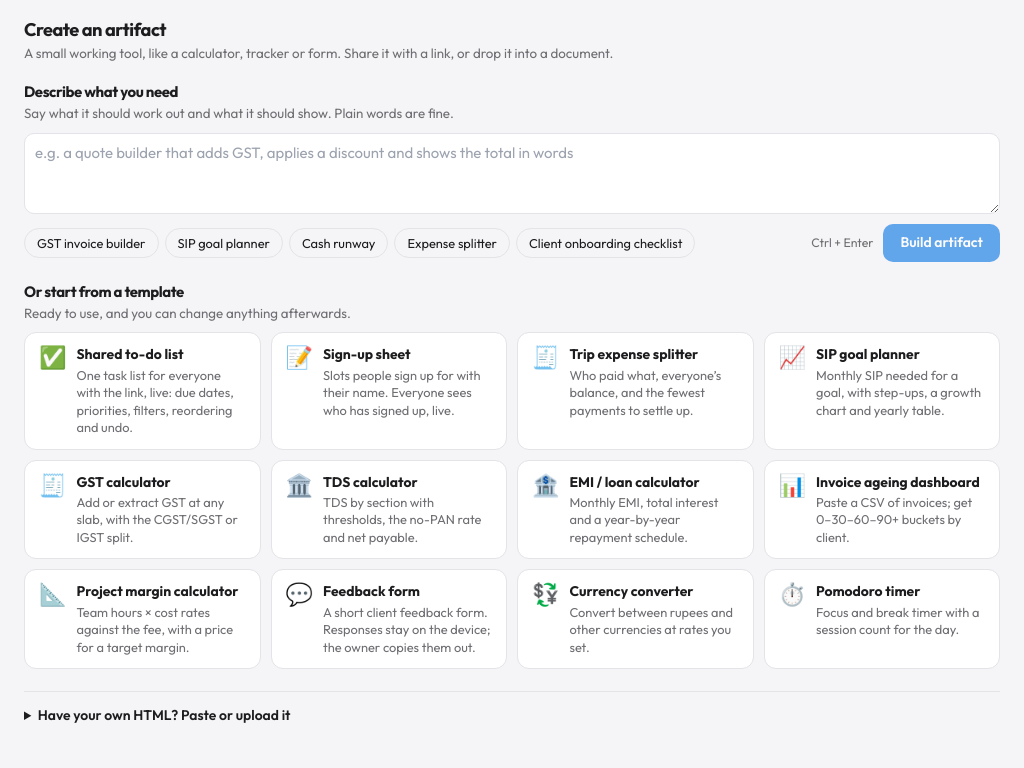
it: building › offers no retry when building is switched off for the workspace
The width and height of the screenshot is (1024, 768).
Replace the text in the text box named "Describe the artifact" with "x" at (512, 174), box 24,133 -> 1000,214
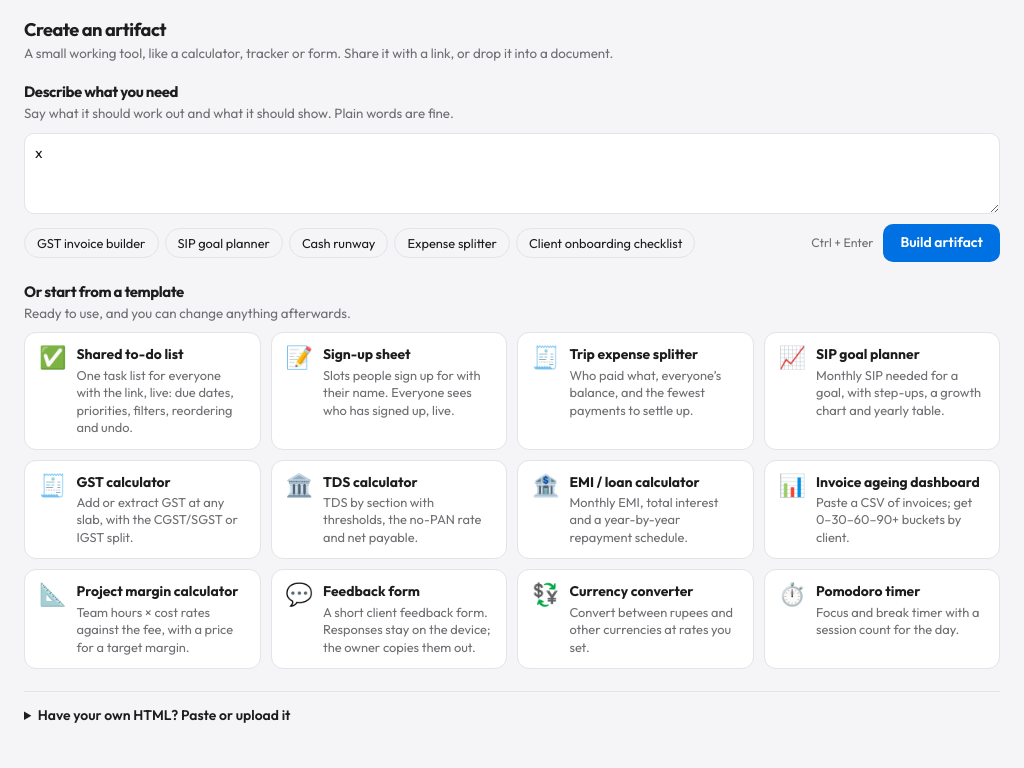
Click the button "Build artifact" at (942, 243), box 883,224 -> 1000,262
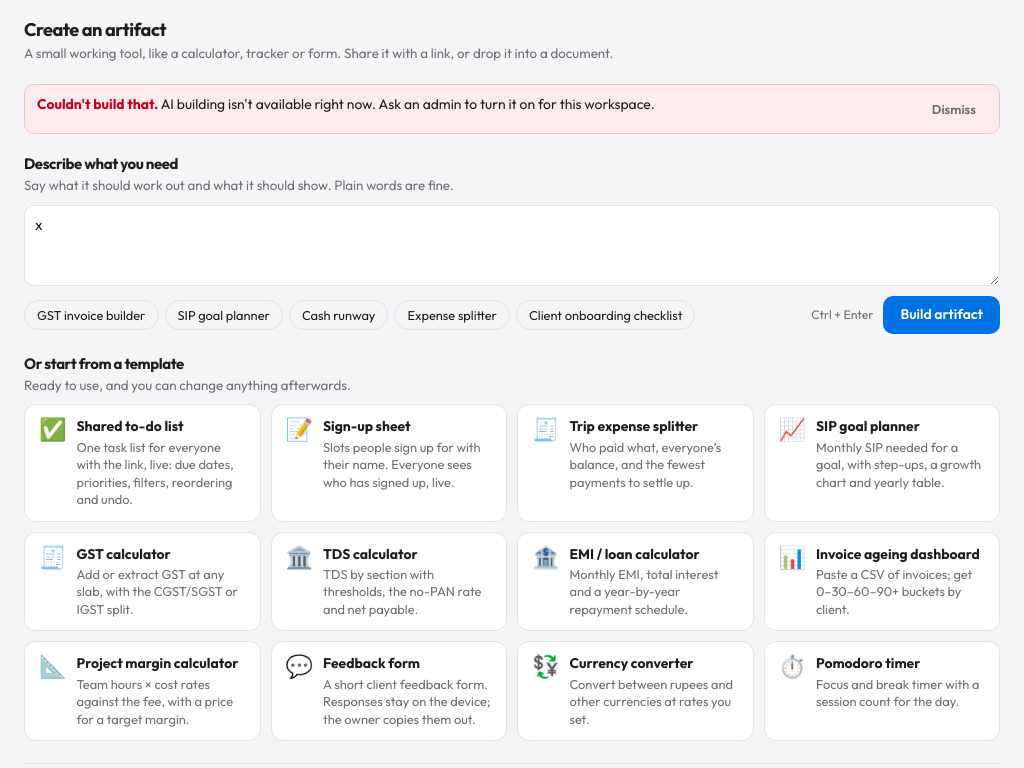
Expected: the message shows "Ask an admin", 161,95 -> 655,113
